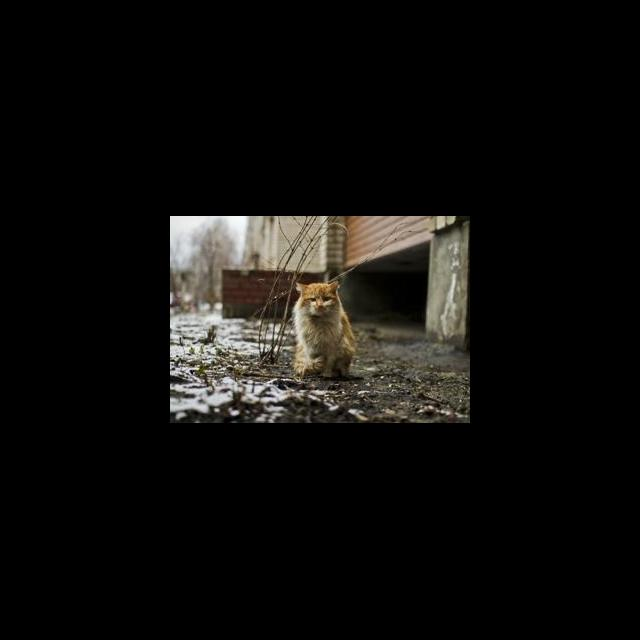animals: (277, 273, 377, 385)
